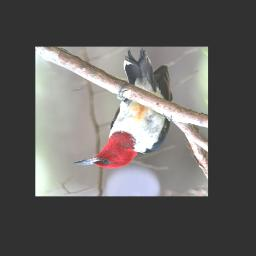Woodpecker: (73, 47, 172, 169)
